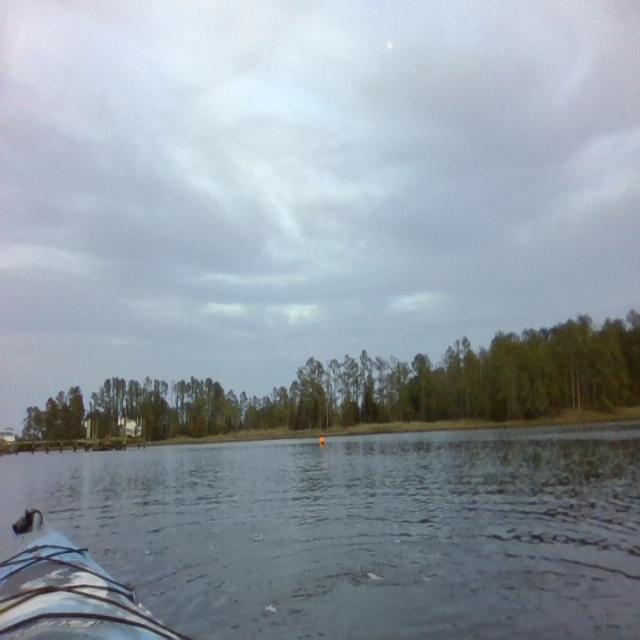Buoy: (317, 432, 327, 449)
